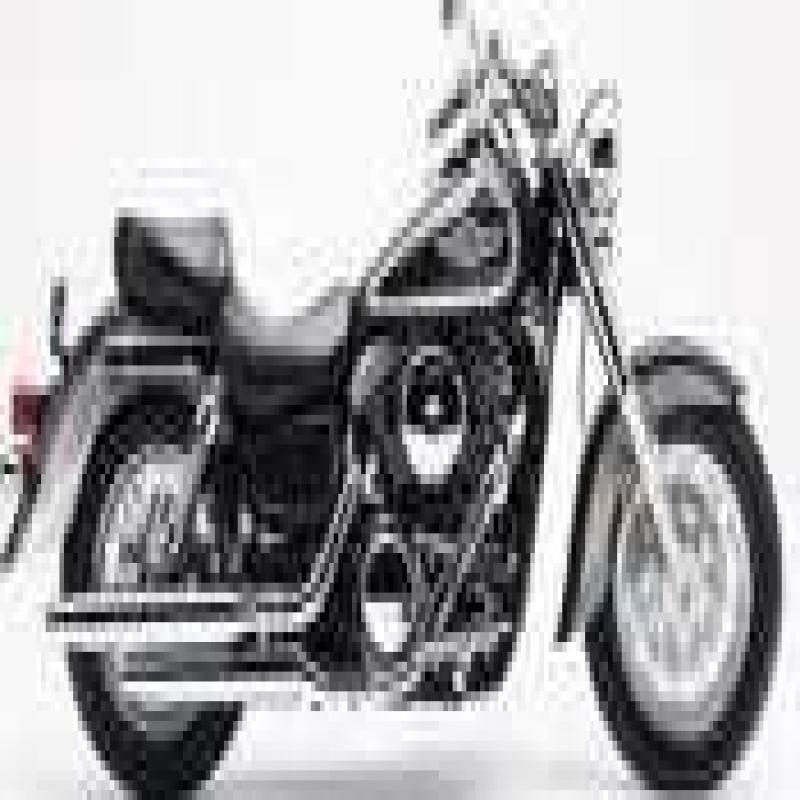bike: (13, 49, 800, 790)
